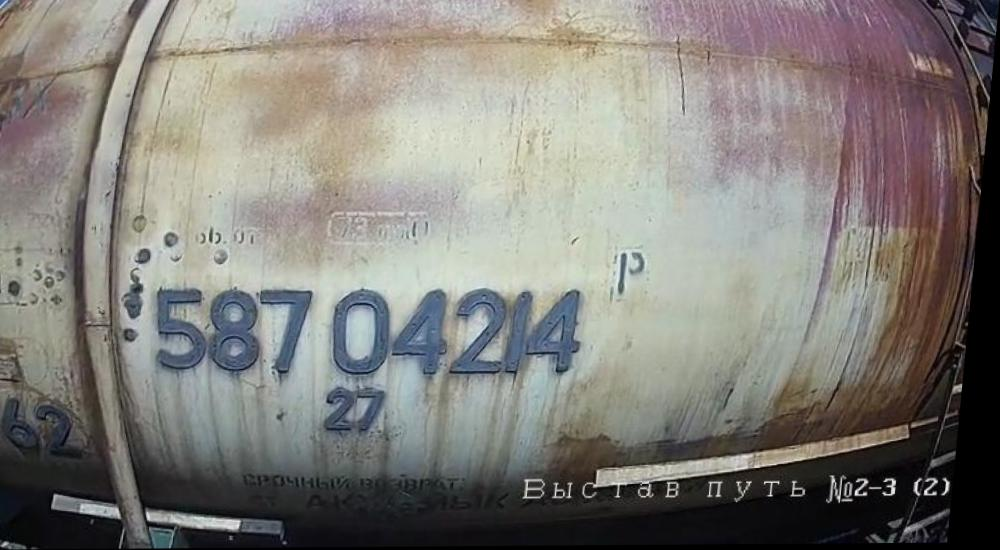Wagon-number: (154, 280, 596, 384)
